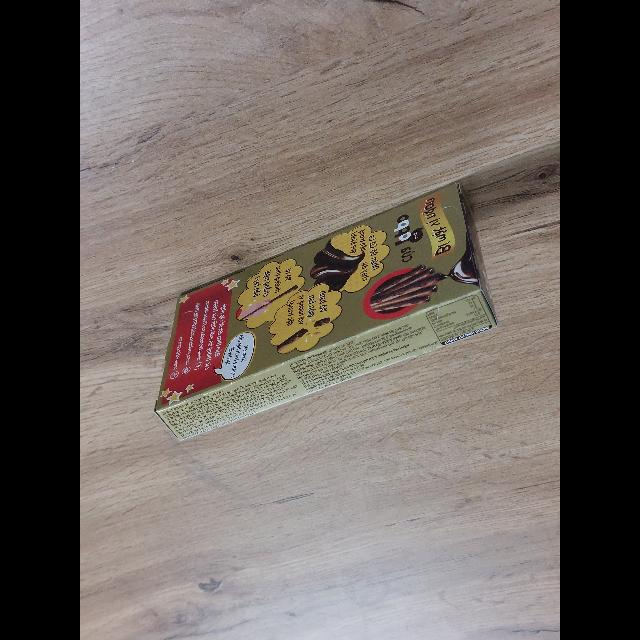banh_toppo_socola: (154, 183, 497, 440)
